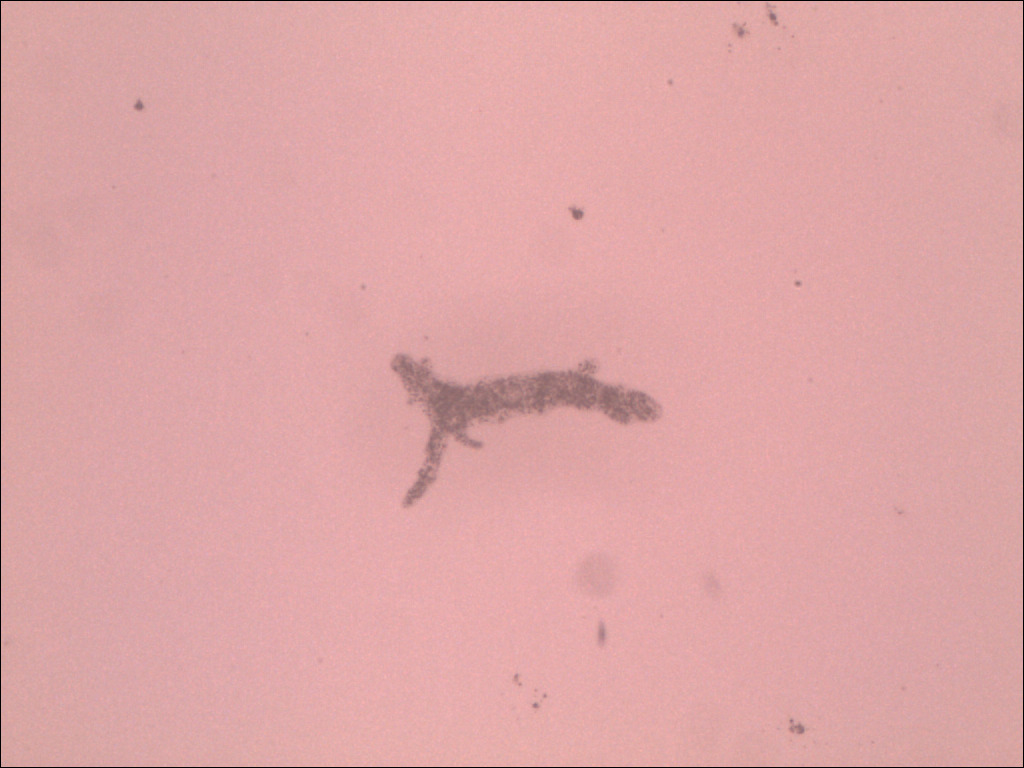amoeba: (379, 343, 674, 516)
